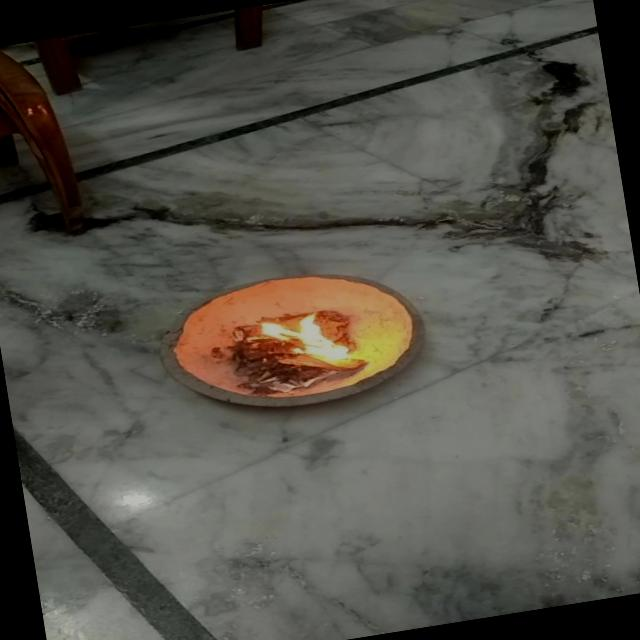fire: (266, 302, 376, 388)
